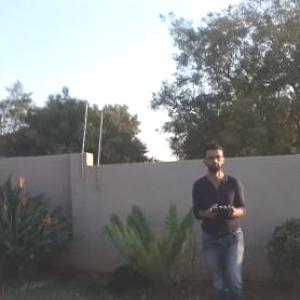follow: (190, 130, 257, 299)
